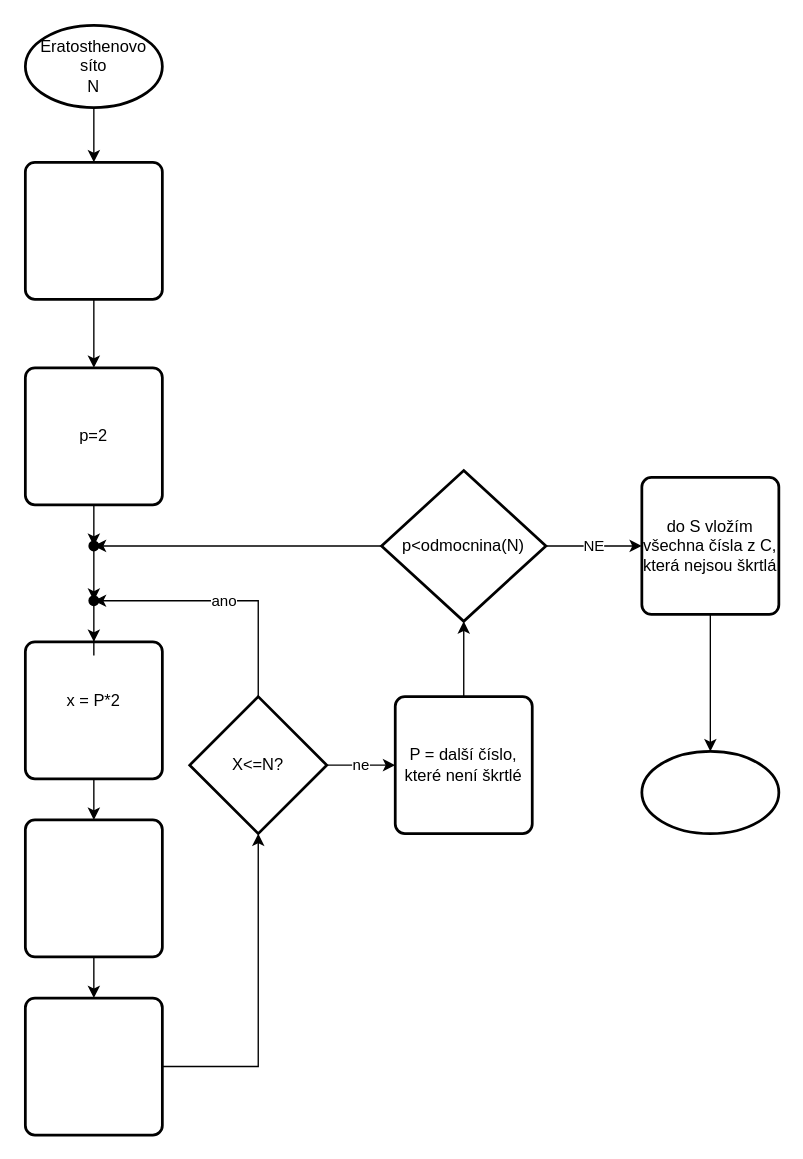
Image size: 803x1159. Some labels were removed from this diagram. Here are the shapes that lost their labels. From the top down, the box of each, then its label:
(23, 160, 163, 300): Seznam C 1,2,3,...N
(640, 749, 780, 834): seznam S provočísel menších než N
(23, 818, 163, 958): vyškrtnu ze seznamu čislo x
(23, 996, 163, 1136): X=X+P
